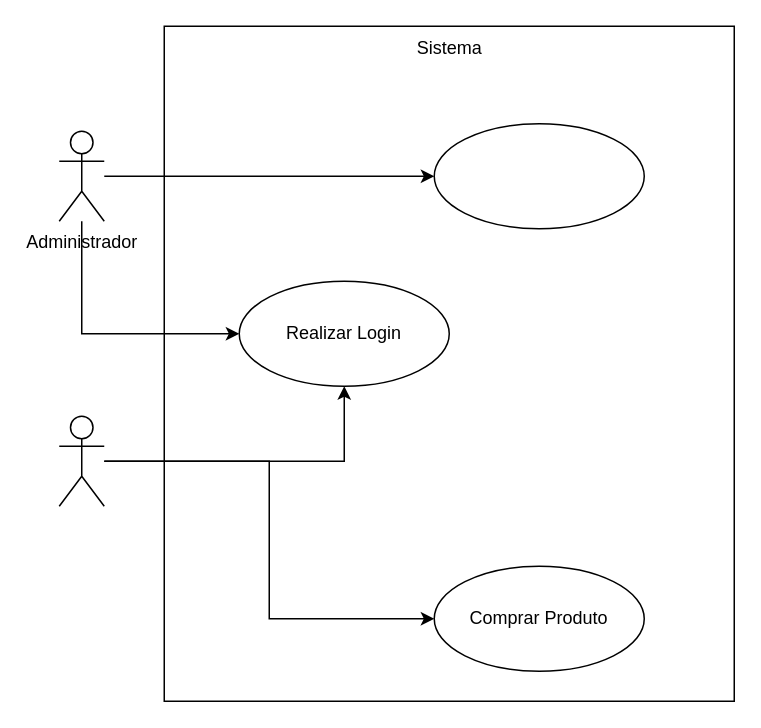
This 761x728 diagram has some shape labels left out. Each missing label, with the centre of its shape:
Cliente: (x=81, y=460)
Gerenciar Produtos: (x=538, y=175)
